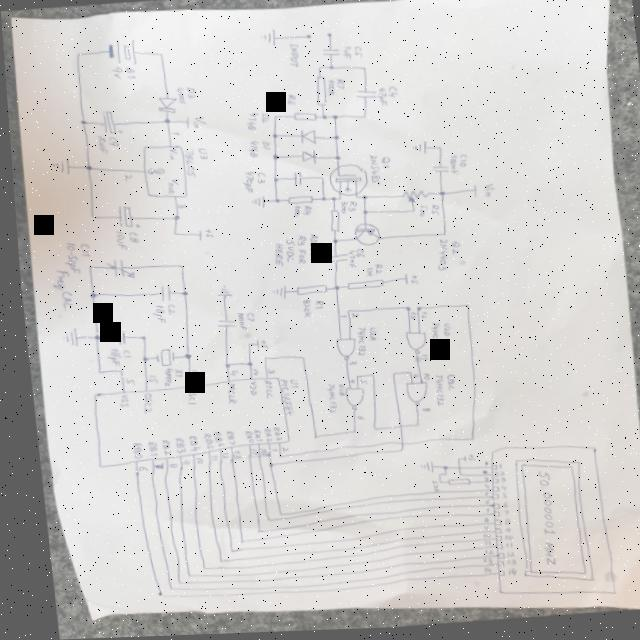capacitor: (100, 258, 130, 281), (113, 204, 137, 230), (98, 110, 121, 135), (150, 284, 168, 304), (321, 255, 344, 267), (351, 91, 375, 102), (210, 319, 231, 330), (108, 330, 122, 346), (426, 166, 446, 177), (319, 49, 339, 59), (288, 172, 299, 188)
crossover: (389, 427, 396, 431), (391, 444, 397, 448), (448, 469, 453, 473)
diode: (154, 96, 176, 116), (296, 130, 314, 148), (297, 152, 313, 167)
ground: (46, 157, 68, 177), (55, 326, 74, 348), (258, 30, 276, 50), (407, 142, 424, 159), (208, 285, 228, 299), (266, 287, 282, 302), (246, 196, 261, 211), (412, 463, 425, 477)
junction: (328, 136, 338, 144), (160, 118, 169, 126), (83, 292, 93, 299), (330, 156, 338, 164), (81, 164, 90, 171), (87, 334, 96, 341), (167, 215, 176, 222), (356, 211, 365, 218), (81, 264, 89, 271), (328, 116, 337, 122), (216, 363, 225, 369), (206, 559, 215, 565), (433, 193, 442, 199), (177, 354, 186, 360), (135, 356, 142, 363), (156, 52, 163, 59), (175, 291, 183, 297), (76, 119, 84, 125), (268, 178, 276, 184), (85, 214, 93, 220), (72, 52, 80, 58), (357, 116, 365, 122), (134, 335, 141, 341), (269, 156, 276, 162), (256, 518, 263, 524), (268, 135, 275, 141), (147, 592, 154, 598), (328, 286, 335, 292), (269, 513, 277, 518), (90, 369, 96, 375), (409, 308, 415, 314), (247, 529, 253, 535), (167, 232, 174, 237), (406, 425, 413, 430), (318, 117, 325, 122), (229, 540, 236, 545), (191, 567, 199, 571), (433, 148, 439, 153), (173, 265, 179, 270), (293, 357, 299, 362), (359, 68, 365, 73), (459, 306, 465, 311), (305, 436, 311, 441), (398, 309, 404, 314), (436, 235, 442, 240), (270, 200, 276, 205), (326, 67, 332, 72), (260, 464, 266, 469), (241, 363, 247, 368), (240, 343, 246, 348), (219, 549, 225, 554), (166, 581, 172, 586), (327, 241, 334, 245), (344, 431, 350, 435), (461, 440, 467, 444), (363, 429, 369, 433), (357, 197, 363, 201), (390, 450, 396, 454), (316, 199, 322, 203), (326, 199, 332, 203), (315, 68, 321, 72), (177, 574, 183, 578), (158, 587, 164, 591), (433, 468, 439, 472), (112, 369, 117, 373), (364, 375, 368, 380), (348, 376, 352, 381), (316, 178, 321, 182), (270, 455, 275, 459), (429, 474, 434, 478), (449, 476, 454, 480), (407, 212, 411, 216), (270, 116, 274, 120), (256, 358, 260, 362), (384, 374, 389, 377), (401, 373, 405, 376), (340, 312, 344, 315), (334, 200, 338, 203), (435, 476, 439, 479), (429, 483, 433, 486), (350, 198, 354, 200), (448, 461, 452, 463)
resistor: (311, 78, 326, 108), (289, 285, 323, 298), (340, 281, 379, 292), (397, 192, 426, 206), (281, 195, 310, 208), (323, 212, 337, 234), (290, 113, 314, 124), (438, 480, 462, 490)
source: (102, 38, 139, 68)
terminal: (181, 117, 188, 131), (467, 187, 473, 201), (398, 276, 403, 288), (193, 231, 198, 243), (249, 341, 253, 351), (325, 34, 331, 40), (454, 458, 458, 466), (304, 37, 310, 41)
text: (525, 473, 550, 570), (45, 269, 68, 313), (57, 242, 76, 275), (429, 240, 447, 274), (424, 376, 441, 409), (272, 381, 287, 417), (316, 384, 332, 414), (421, 323, 436, 353), (179, 150, 194, 179), (364, 156, 377, 189), (284, 45, 301, 70), (236, 171, 253, 195), (348, 329, 362, 358), (302, 236, 316, 264), (290, 238, 304, 266), (217, 382, 233, 406), (267, 244, 281, 269), (241, 113, 258, 133), (278, 240, 292, 264), (145, 305, 161, 325), (134, 393, 148, 415), (99, 348, 115, 367), (109, 230, 123, 251), (178, 388, 193, 407), (254, 381, 268, 401), (155, 368, 169, 388), (244, 141, 258, 160), (295, 300, 308, 320), (172, 87, 185, 106), (93, 135, 105, 155), (373, 89, 385, 109), (444, 158, 456, 178), (204, 432, 218, 449), (162, 180, 177, 195), (239, 382, 253, 398), (122, 443, 136, 459), (180, 436, 194, 452), (444, 243, 457, 260), (188, 117, 205, 130), (152, 439, 164, 457), (439, 376, 451, 394), (74, 243, 88, 258), (142, 167, 163, 177), (323, 81, 334, 100), (230, 313, 241, 332), (166, 438, 179, 454), (138, 442, 151, 457), (195, 434, 207, 450), (478, 187, 491, 201), (122, 230, 135, 244), (342, 252, 352, 270), (216, 432, 228, 447), (193, 148, 205, 162), (255, 429, 265, 445), (104, 136, 117, 148), (109, 67, 121, 80), (453, 157, 464, 171), (340, 48, 351, 62), (435, 325, 446, 339), (164, 149, 176, 161), (112, 395, 123, 408), (413, 207, 424, 220), (271, 94, 282, 107), (384, 88, 395, 101), (236, 431, 247, 444), (123, 67, 134, 80), (264, 428, 274, 442), (252, 173, 263, 185), (376, 159, 387, 171), (283, 95, 294, 107), (244, 431, 255, 443), (183, 87, 194, 99), (362, 329, 371, 343), (423, 482, 432, 496), (166, 369, 178, 379), (425, 207, 435, 219), (335, 203, 344, 216), (349, 250, 360, 260), (141, 375, 151, 386), (343, 204, 354, 214), (297, 207, 308, 217), (257, 142, 268, 152), (307, 302, 319, 311), (404, 276, 413, 288), (330, 386, 339, 398), (333, 80, 342, 92), (351, 48, 360, 60), (161, 305, 170, 317), (118, 174, 131, 182), (368, 266, 378, 276), (282, 380, 292, 390), (239, 314, 249, 324), (118, 377, 129, 386), (258, 114, 267, 125), (225, 450, 234, 461), (289, 207, 297, 219), (497, 571, 507, 580), (253, 341, 261, 352), (115, 350, 126, 358), (200, 229, 208, 240), (413, 409, 425, 416), (213, 452, 222, 461), (183, 370, 193, 378), (360, 269, 368, 279), (472, 552, 485, 558), (459, 456, 467, 465), (415, 376, 424, 384), (494, 520, 502, 529), (173, 203, 183, 210), (146, 463, 156, 470), (496, 562, 506, 569), (497, 554, 507, 561), (494, 537, 504, 544), (472, 561, 482, 568), (129, 466, 140, 472), (414, 314, 422, 322), (187, 458, 195, 466), (252, 449, 260, 457), (260, 369, 269, 376), (352, 380, 361, 387), (243, 448, 250, 457), (493, 503, 500, 512), (473, 543, 482, 550), (222, 371, 232, 377), (160, 463, 170, 469), (172, 460, 182, 466), (345, 314, 353, 321), (403, 314, 410, 322), (202, 455, 210, 462), (490, 479, 498, 486), (491, 495, 499, 502), (495, 545, 503, 552), (473, 527, 480, 535), (413, 357, 422, 363), (492, 513, 501, 519), (473, 570, 482, 576), (472, 536, 481, 542), (245, 370, 252, 377), (474, 463, 481, 470), (473, 519, 480, 526), (475, 501, 482, 508), (495, 530, 502, 537), (349, 417, 357, 423), (273, 448, 281, 454), (492, 487, 498, 495), (490, 473, 497, 479), (342, 362, 350, 367), (474, 494, 482, 499), (333, 316, 342, 320), (168, 132, 177, 136), (473, 473, 482, 477), (474, 479, 480, 485), (475, 486, 481, 492), (489, 466, 494, 473), (476, 510, 481, 517), (404, 376, 412, 380), (263, 449, 271, 453), (342, 382, 349, 386)
transistor: (323, 165, 365, 199), (348, 224, 377, 249)
